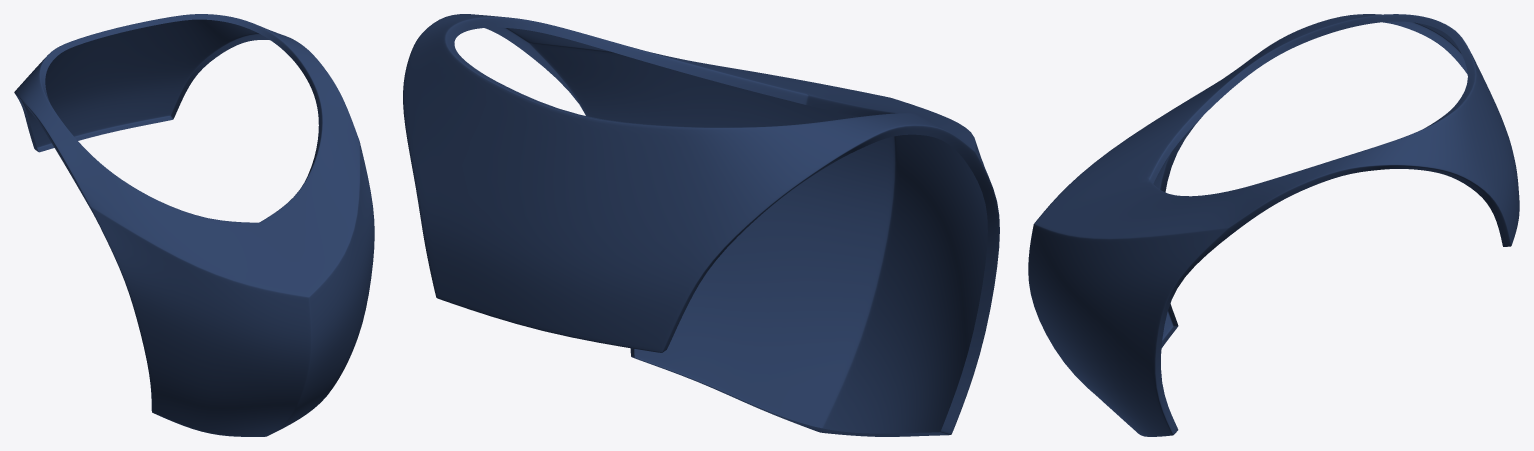
The model's file is UvUnwrap.fbx.
3 renders of one model, left to right at view 1: azimuth 30°, elevation 25°; view 2: azimuth 150°, elevation 25°; view 3: azimuth 270°, elevation 25°, orthographic. The views are drawn at different scales.
Visible parts, largest first — view 1: Chest; view 2: Chest; view 3: Chest.
Boxes of the visible parts, x1,y1,x2,y2 form: Chest: [14, 14, 374, 436]; Chest: [403, 14, 999, 436]; Chest: [1028, 14, 1519, 436].
Bounding box in the file's own units: 241 × 253 × 321.
